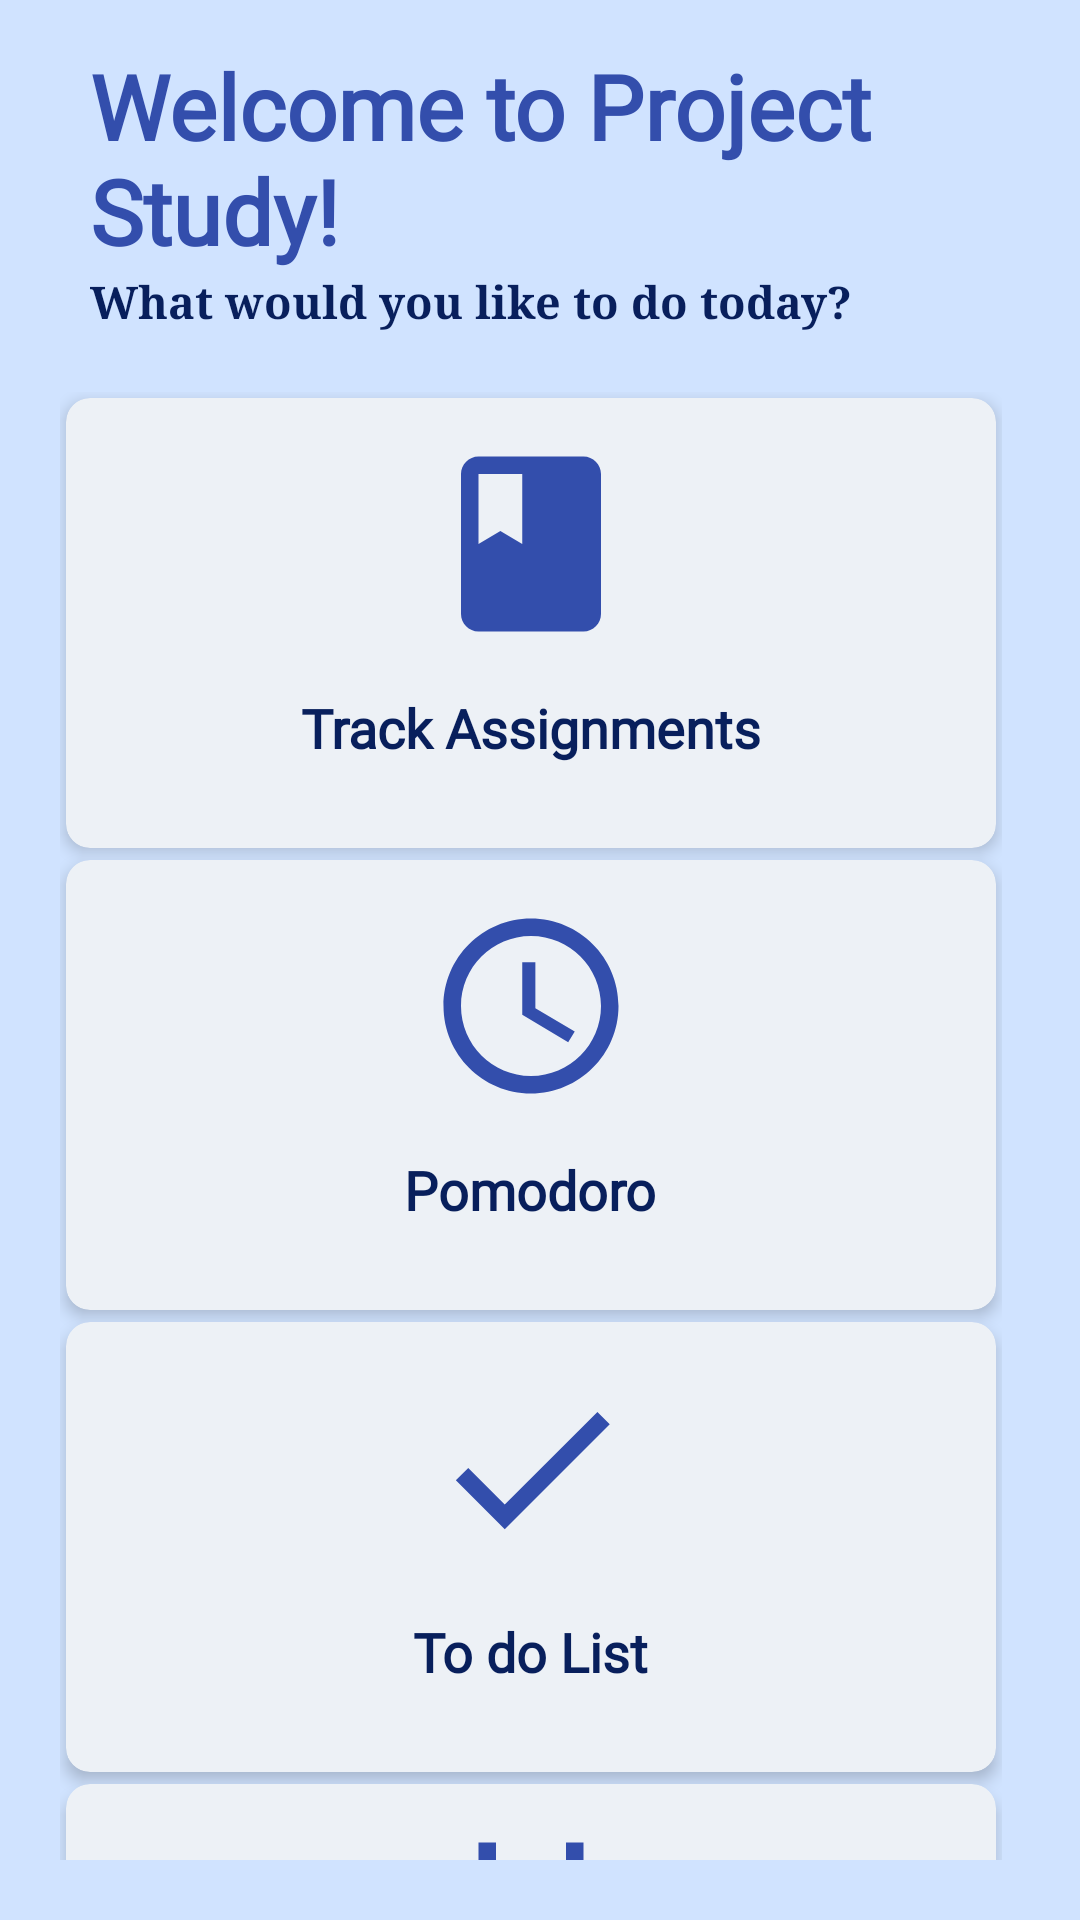

Icons on this 1080w x 1920h Android screen, each with its box as (x1, y1, x2, y2):
access time: (443, 918, 619, 1094)
check: (456, 1412, 610, 1529)
class: (461, 456, 601, 632)
